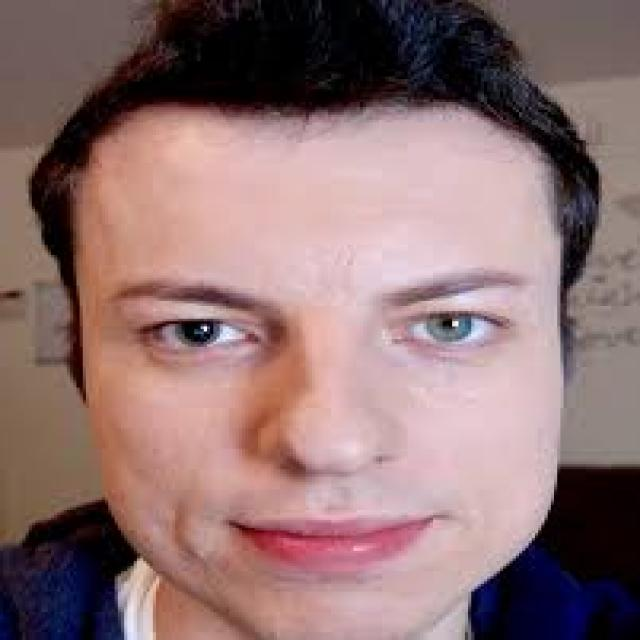normal_face: (61, 76, 572, 637)
